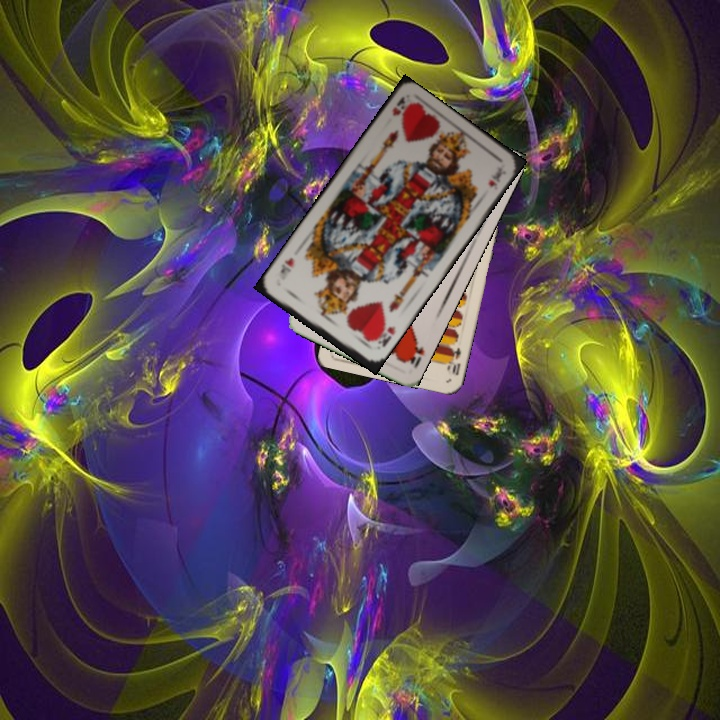E10: (443, 343, 464, 378)
HK: (369, 319, 398, 350), (388, 93, 413, 118)
HO: (401, 334, 427, 367)
